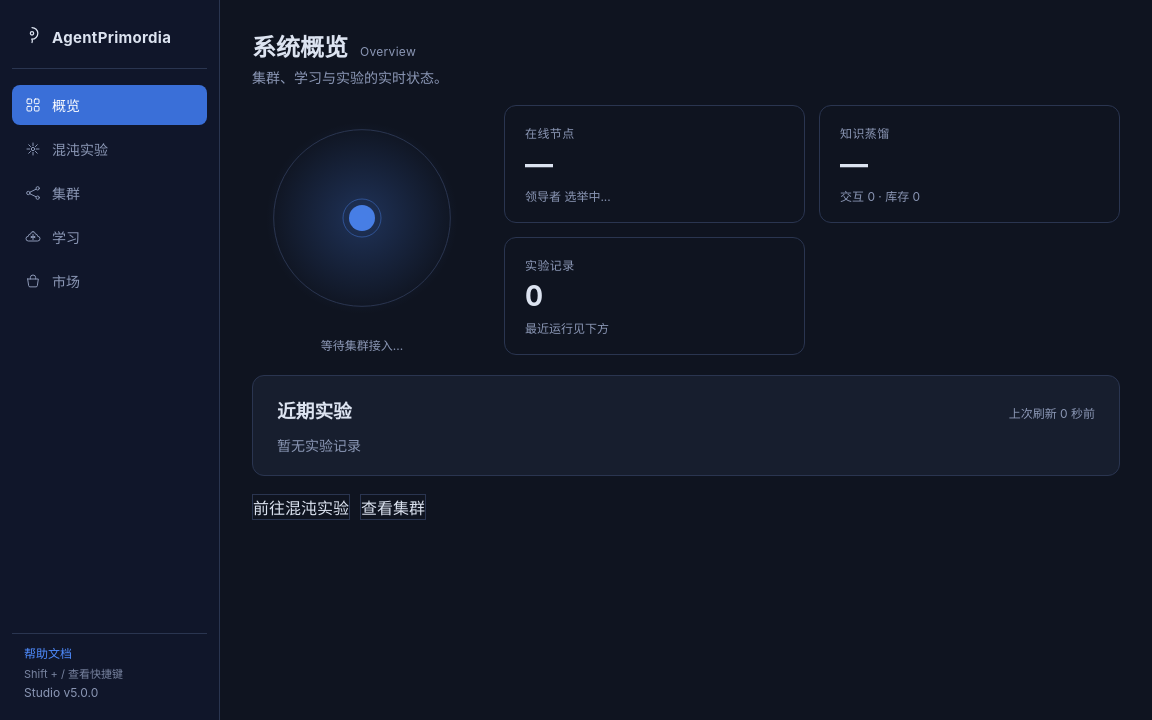
it: Studio App 壳层 › 点击混沌实验导航切换到 Chaos Lab
Click the link "混沌实验" at (66, 150), box left=25, top=141, right=108, bottom=158
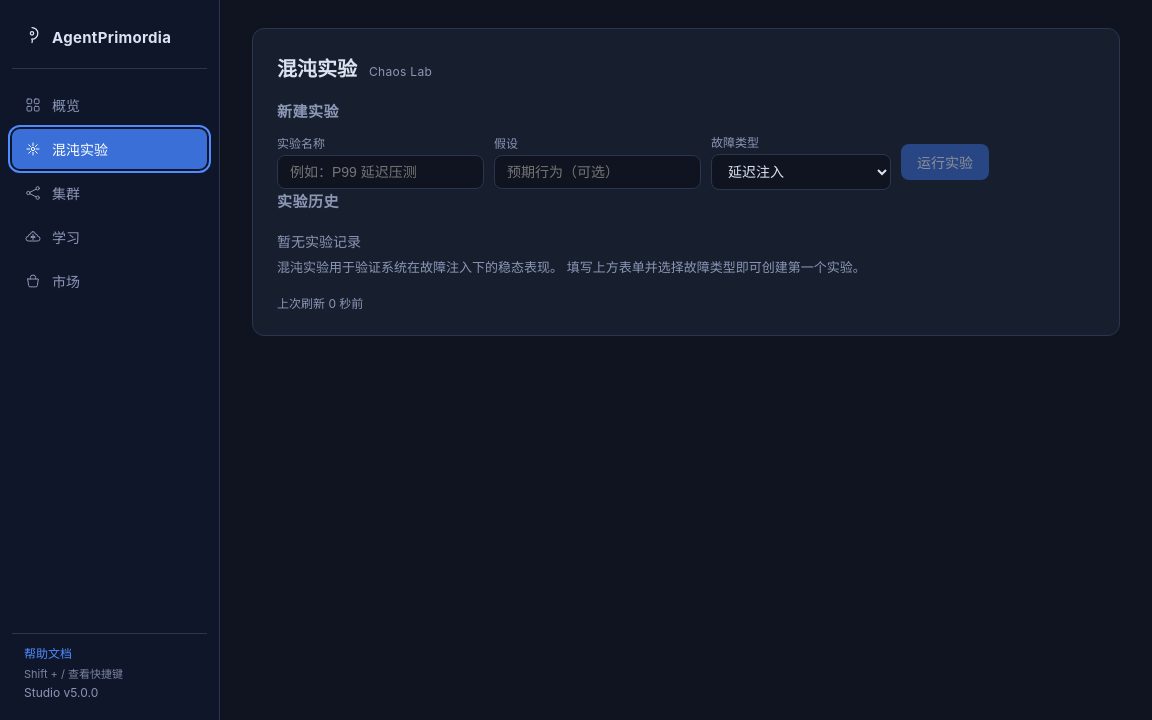
Expected: the heading "混沌实验" is shown, left=277, top=53, right=357, bottom=82
